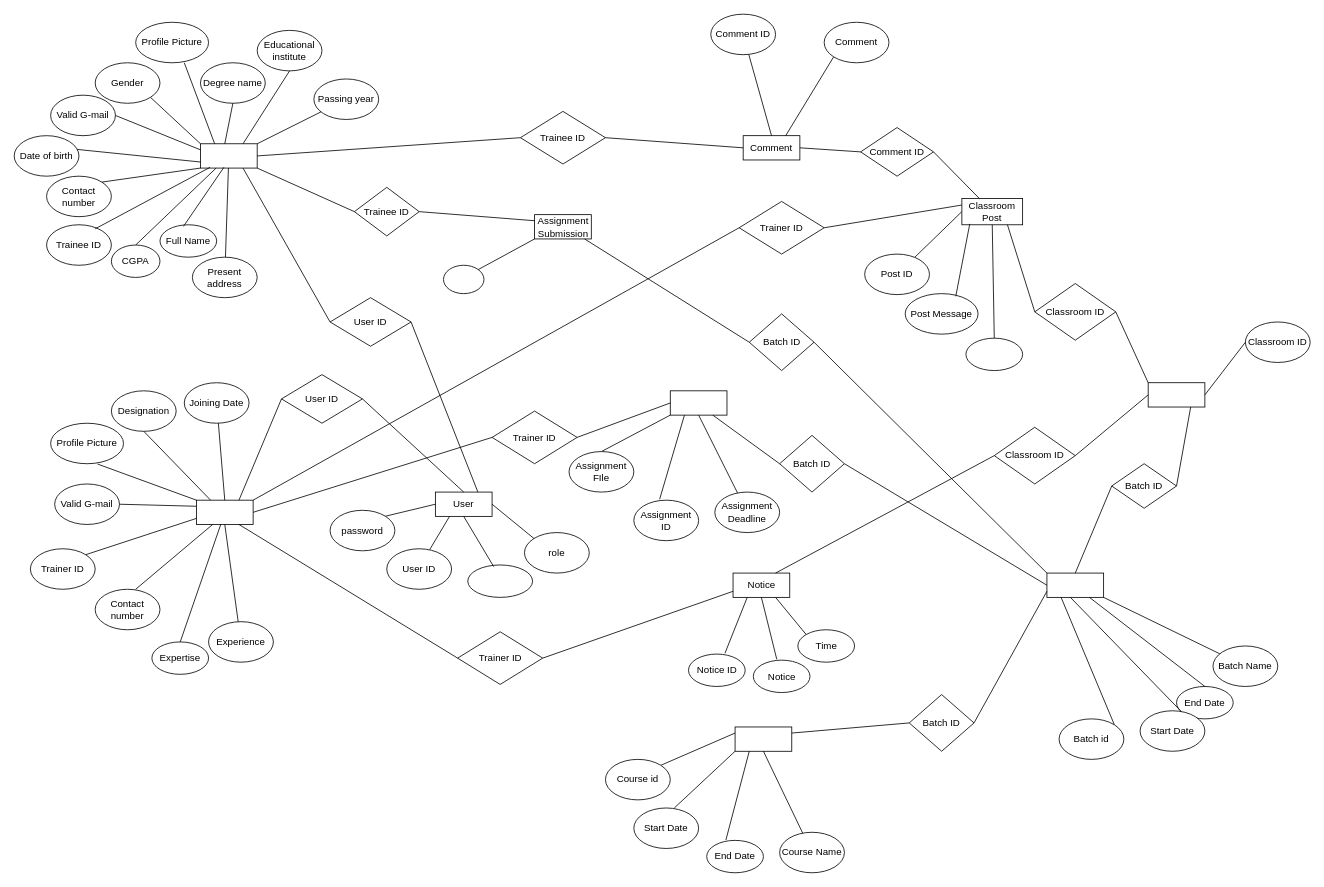
The diagram is 1324 pixels wide and 887 high, and some of its shapes have lost their labels. Here are the shapes that lost their labels. From the top down, the centre of each, then its label:
At point 228,155: "Trainee".
At point 463,279: "File".
At point 994,354: "Post File".
At point 698,402: "Assignment Create".
At point 1176,394: "Classroom".
At point 224,511: "Trainer".
At point 500,580: "username".
At point 1075,584: "Batch".
At point 763,738: "Batch Schedule".
